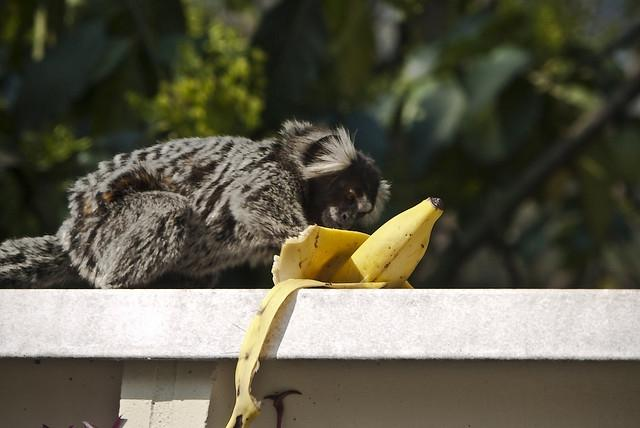banana: (224, 197, 446, 428)
